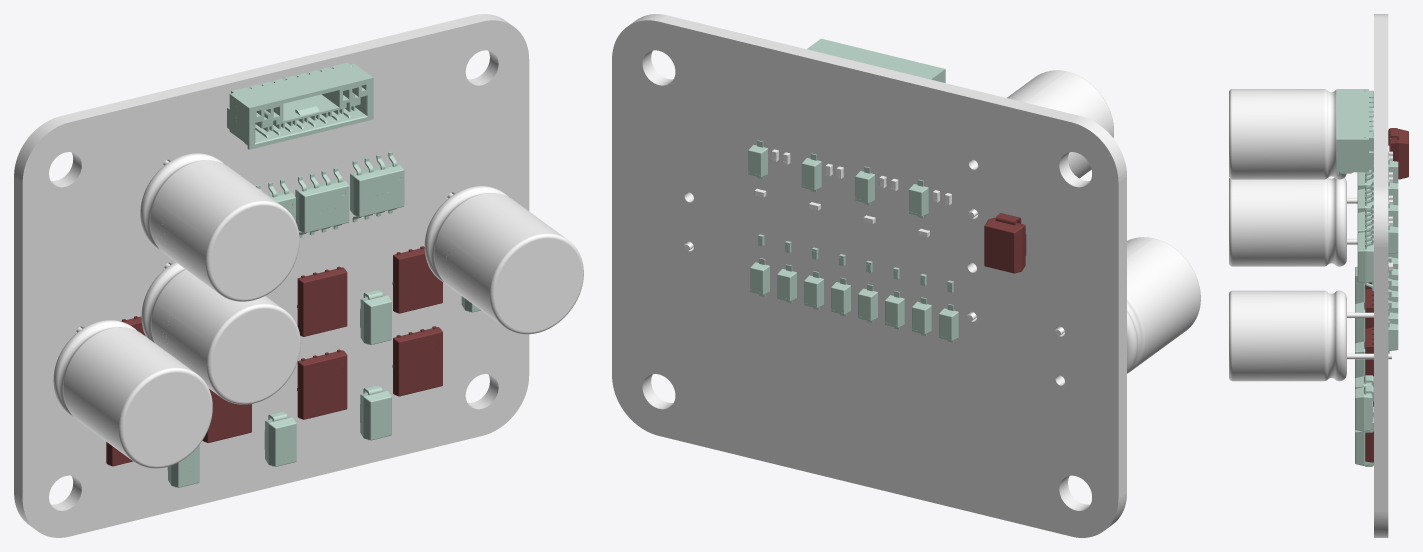
The model's file is Easykiconverter_展示模型.glb.
3 renders of one model, left to right at view 1: azimuth 30°, elevation 25°; view 2: azimuth 150°, elevation 25°; view 3: azimuth 270°, elevation 25°, orthographic. The views are drawn at different scales.
Visible parts, largest first — view 1: STEP mesh 1, STEP mesh 301, STEP mesh 302, STEP mesh 300, STEP mesh 303, STEP mesh 285, STEP mesh 163, STEP mesh 170, STEP mesh 165, STEP mesh 164, STEP mesh 203, STEP mesh 269 (+5 smaller); view 2: STEP mesh 1, STEP mesh 302, STEP mesh 301, STEP mesh 299, STEP mesh 285; view 3: STEP mesh 300, STEP mesh 303, STEP mesh 301, STEP mesh 1, STEP mesh 285, STEP mesh 28, STEP mesh 299, STEP mesh 203, STEP mesh 14, STEP mesh 164, STEP mesh 98, STEP mesh 112 (+7 smaller).
Part boxes in pixels (x1,y1,x2,y2): STEP mesh 1: (14,14,529,537); STEP mesh 301: (140,153,299,301); STEP mesh 302: (53,320,212,468); STEP mesh 300: (424,186,583,334); STEP mesh 303: (141,262,300,404); STEP mesh 285: (227,63,373,149); STEP mesh 163: (297,349,347,419); STEP mesh 170: (297,266,347,336); STEP mesh 165: (392,326,442,396); STEP mesh 164: (392,246,442,313); STEP mesh 203: (350,163,404,217); STEP mesh 269: (295,179,349,233); STEP mesh 1: (612,14,1126,537); STEP mesh 302: (1055,237,1200,373); STEP mesh 301: (968,70,1113,218); STEP mesh 299: (984,213,1026,273); STEP mesh 285: (807,38,945,82); STEP mesh 300: (1229,290,1391,381); STEP mesh 303: (1229,178,1357,266); STEP mesh 301: (1229,89,1388,179); STEP mesh 1: (1374,14,1388,537); STEP mesh 285: (1336,89,1373,174); STEP mesh 28: (1355,386,1373,432); STEP mesh 299: (1388,128,1408,179); STEP mesh 203: (1357,232,1373,283); STEP mesh 14: (1355,430,1373,466); STEP mesh 164: (1365,327,1373,376); STEP mesh 98: (1355,302,1365,343); STEP mesh 112: (1355,341,1365,377).
Size of the model in its own units: 2 by 1.56 by 0.7341.
